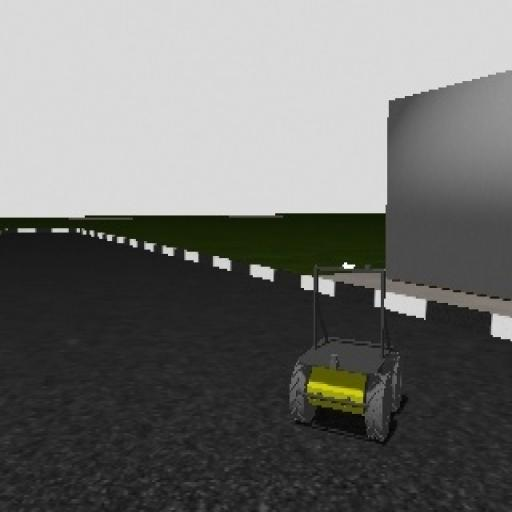huskya200: (279, 249, 416, 461)
